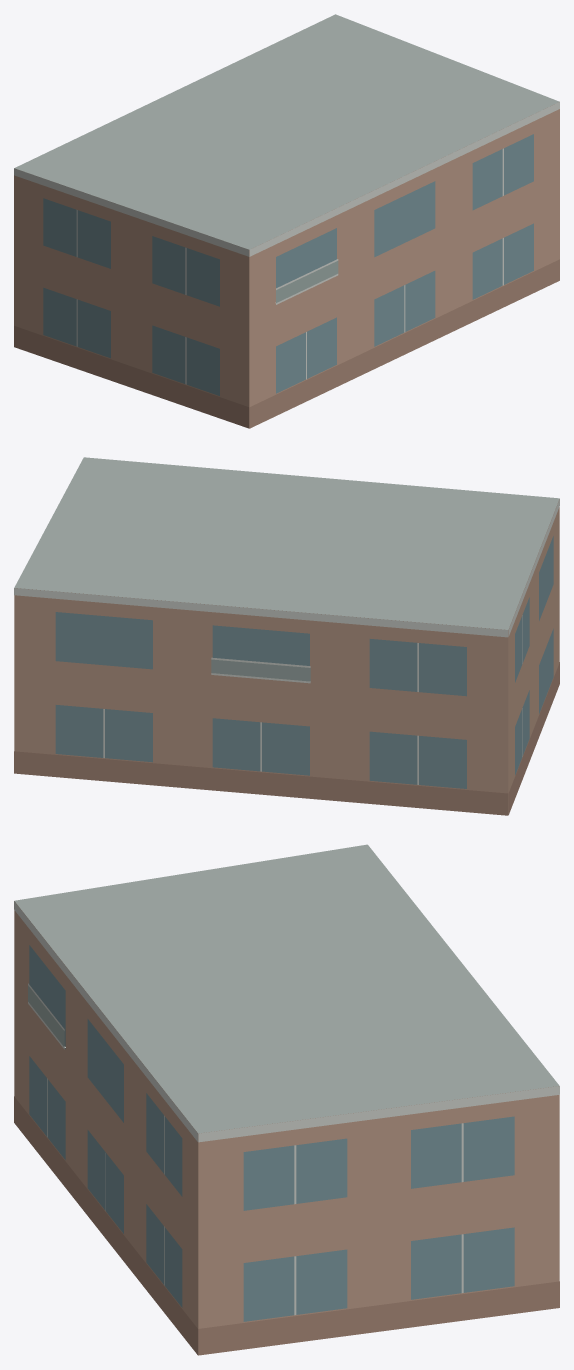
The model's file is survey-upis-32619611.glb.
The picture shows the model from 3 angles, top to bottom: view 1: azimuth 30°, elevation 25°; view 2: azimuth 150°, elevation 25°; view 3: azimuth 270°, elevation 25°; orthographic projection. The views are drawn at different scales.
Parts seen in each view (by area): view 1: survey-upis-32619611.tmp; view 2: survey-upis-32619611.tmp; view 3: survey-upis-32619611.tmp.
Part boxes in pixels (bbox=[...]): survey-upis-32619611.tmp: bbox=[14, 14, 559, 428]; survey-upis-32619611.tmp: bbox=[14, 457, 559, 815]; survey-upis-32619611.tmp: bbox=[14, 844, 559, 1355].
Bounding box in the file's own units: 17.05 × 6.1 × 13.6.
